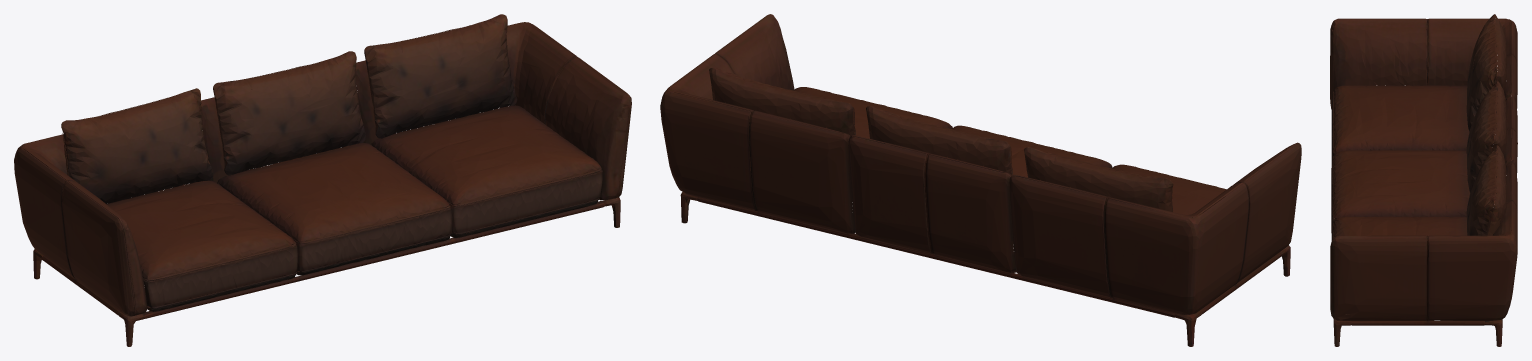
Rendered from edited_mesh.glb.
The picture shows the model from 3 angles, left to right: view 1: azimuth 30°, elevation 25°; view 2: azimuth 150°, elevation 25°; view 3: azimuth 270°, elevation 25°; orthographic projection. The views are drawn at different scales.
Parts seen in each view (by area): view 1: solid_001_wire; view 2: solid_001_wire; view 3: solid_001_wire.
Boxes of the visible parts, x1=… form: solid_001_wire: x1=14, y1=14, x2=631, y2=346; solid_001_wire: x1=660, y1=14, x2=1301, y2=346; solid_001_wire: x1=1330, y1=14, x2=1517, y2=346.
Bounding box in the file's own units: 2 × 0.5632 × 0.7137.
Materials: 1 (1 with a texture image).
